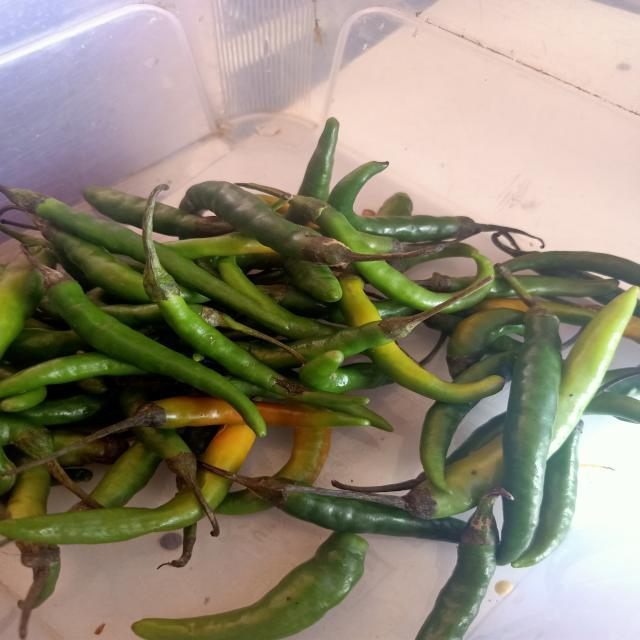Green Chilly: (29, 259, 265, 435), (141, 185, 303, 398), (131, 533, 368, 640), (212, 470, 465, 544), (497, 307, 562, 566), (327, 161, 529, 242), (181, 180, 360, 265), (416, 489, 512, 640), (0, 490, 205, 545), (365, 342, 505, 404), (201, 425, 254, 473), (339, 277, 380, 326), (196, 470, 232, 510)
